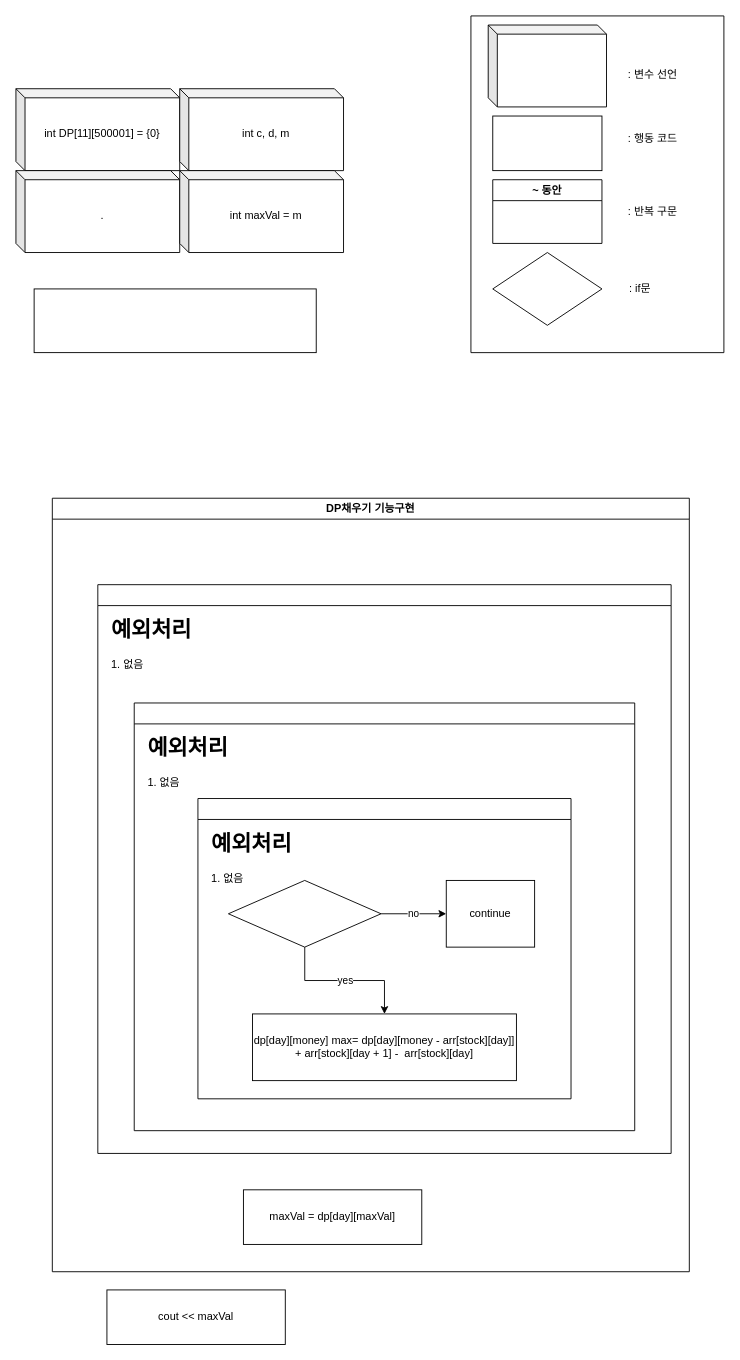
Some shapes in this 740 by 1360 pixel diagram are drawn without their labels. Here are the shapes that lost their labels. From the top down, the box of each, then its label:
(33, 288, 316, 353): c, d, m과 arr입력
(97, 584, 671, 1153): int day = 0 부터 D - 2 까지 반복
(228, 880, 381, 947): money가 arr[stock][day] 보다 큰가?
(133, 702, 635, 1131): int money 0 부터 maxVal 까지 반복
(197, 798, 571, 1099): int stock = 0 부터 c 까지 반복
